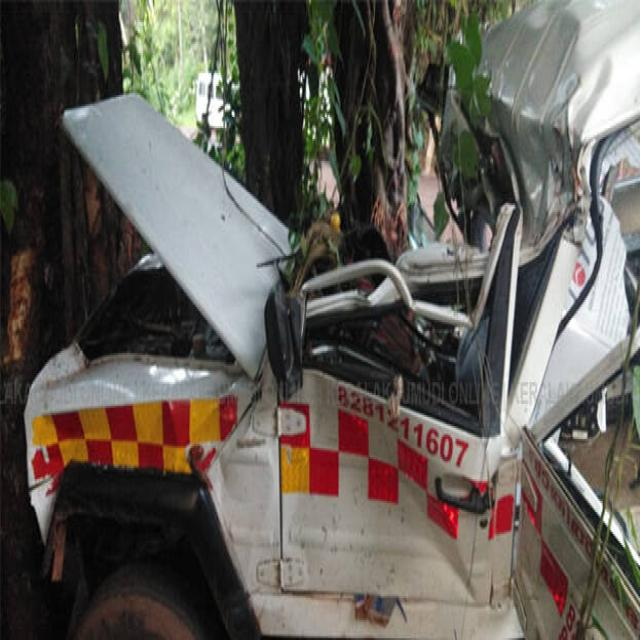accident: (25, 0, 640, 639)
